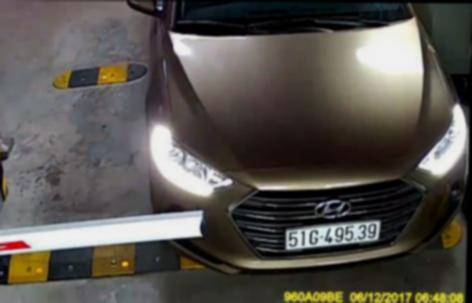License_Plate: (280, 220, 385, 251)
